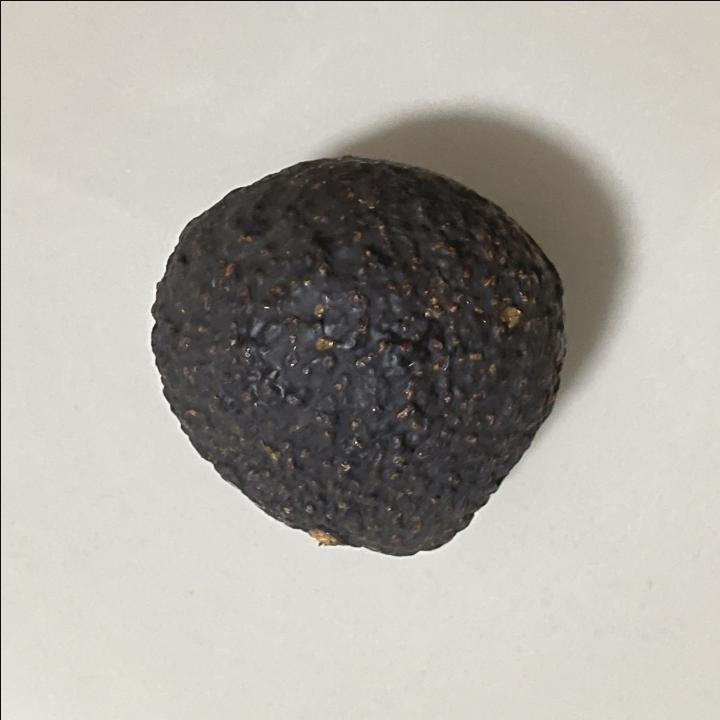Level3: (138, 144, 575, 570)
